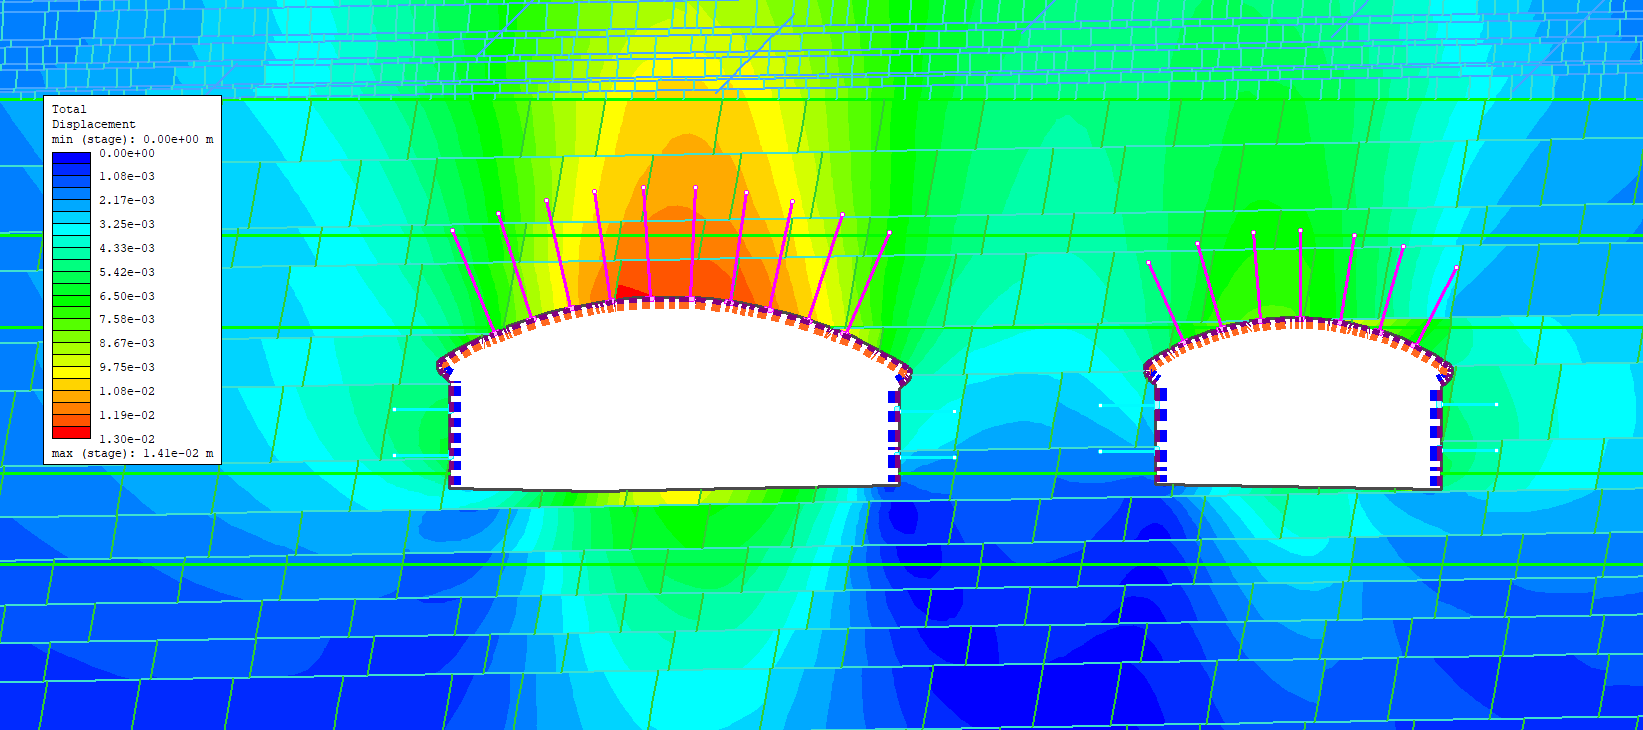crown: (623, 259, 731, 295), (1254, 279, 1355, 312)
label: (45, 96, 223, 463)
tunnel-opening: (439, 297, 912, 489), (1146, 314, 1453, 489)
